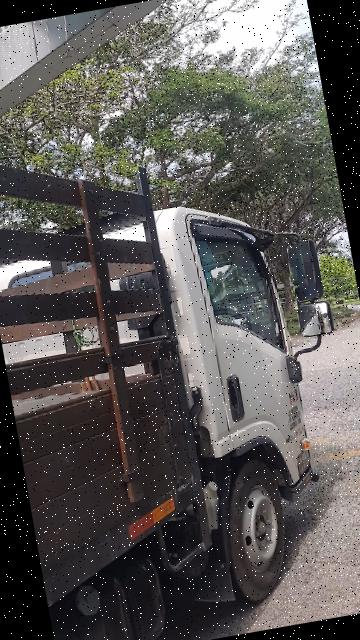lorry: (1, 87, 360, 640)
